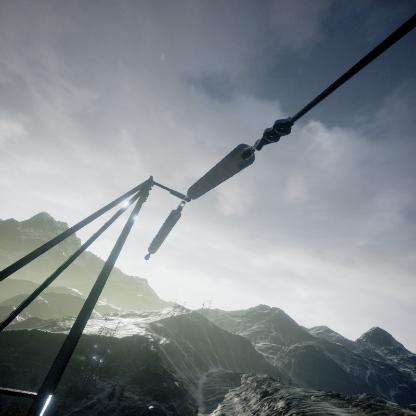insulator: (185, 141, 258, 203), (144, 205, 182, 262)
